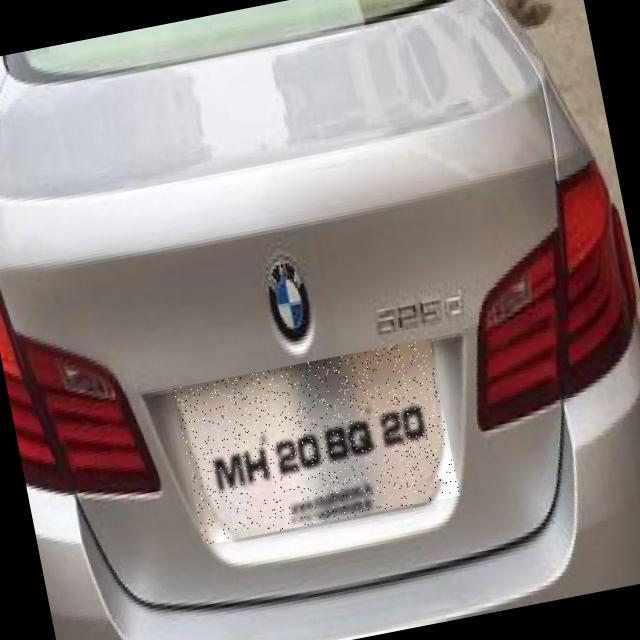Plate: (174, 340, 461, 547)
